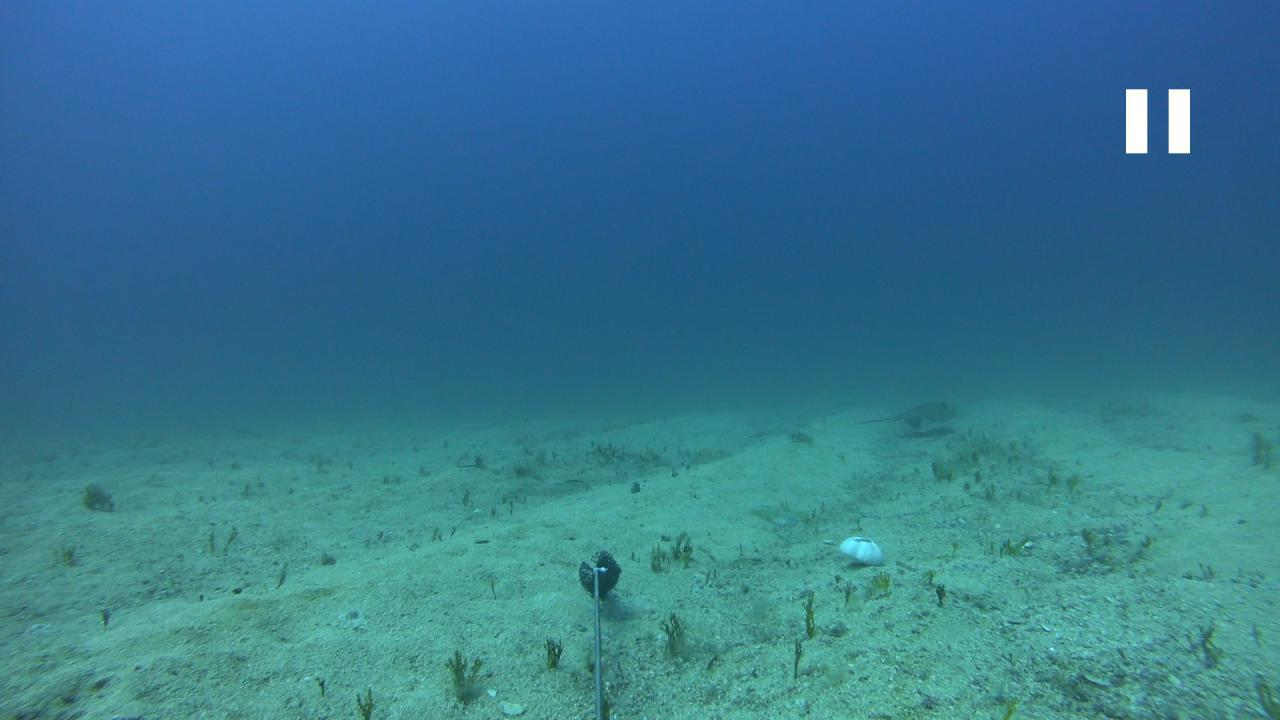dasyatis: (854, 402, 959, 429)
